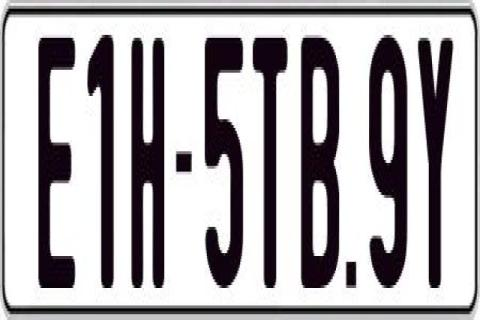0: (369, 26, 413, 288), (202, 29, 246, 282), (84, 35, 116, 288)
B: (300, 35, 341, 297)
E: (36, 29, 78, 279)
H: (129, 38, 166, 291)
T: (250, 29, 288, 291)
Y: (415, 35, 452, 291)
